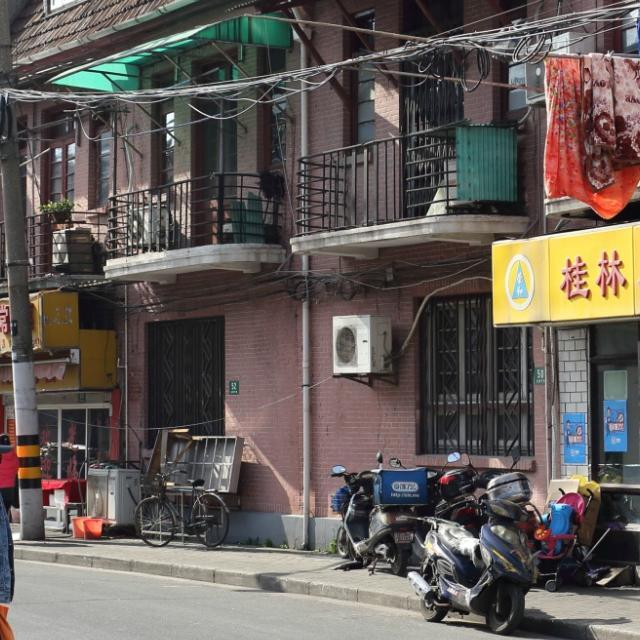curb: (19, 549, 419, 611), (521, 618, 639, 639)
